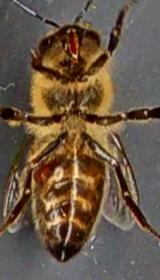varroa_mite: (31, 160, 57, 187)
